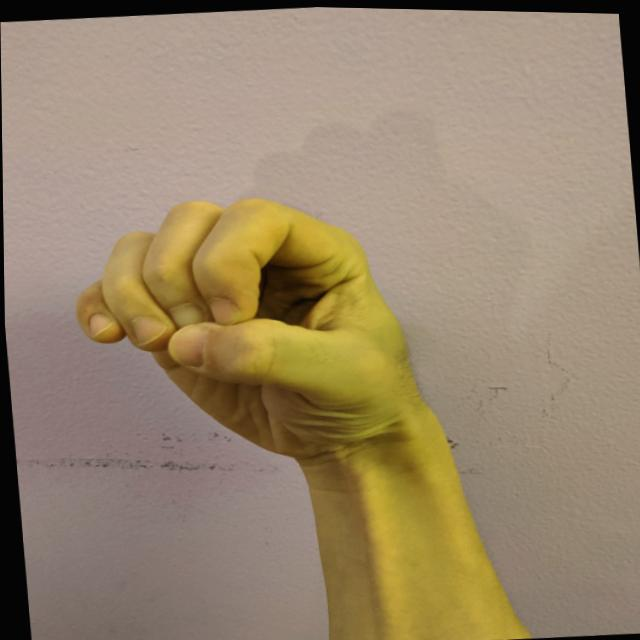O: (59, 177, 425, 480)
